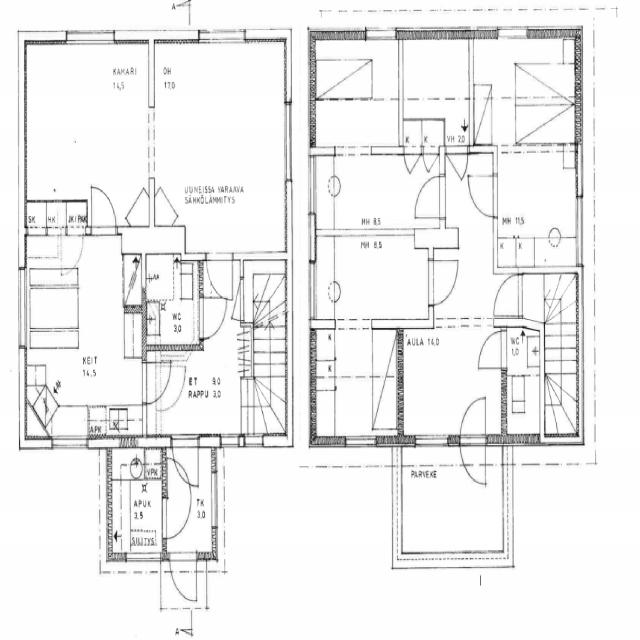door: (172, 436, 198, 494), (428, 261, 461, 306), (460, 436, 486, 492), (460, 392, 486, 447), (170, 554, 197, 605), (206, 252, 232, 304), (414, 176, 446, 218), (198, 297, 228, 339), (215, 277, 244, 320), (92, 185, 116, 235), (142, 362, 171, 403), (470, 177, 500, 216), (162, 498, 191, 538), (494, 277, 523, 316), (480, 331, 508, 368), (446, 146, 467, 191), (405, 146, 421, 184), (424, 146, 438, 182)
